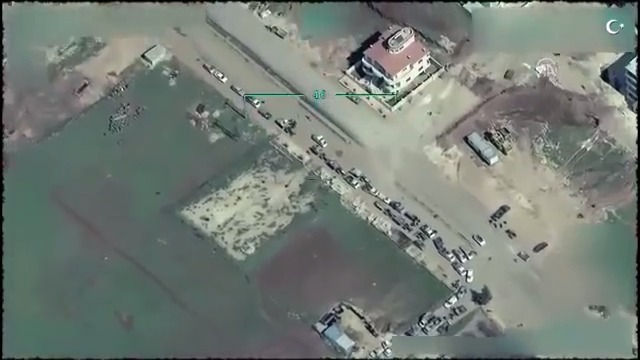arac: (415, 305, 437, 327), (211, 66, 232, 83), (342, 172, 364, 188), (311, 134, 329, 146), (443, 295, 458, 308), (464, 268, 476, 284)
bina: (338, 19, 452, 107)
